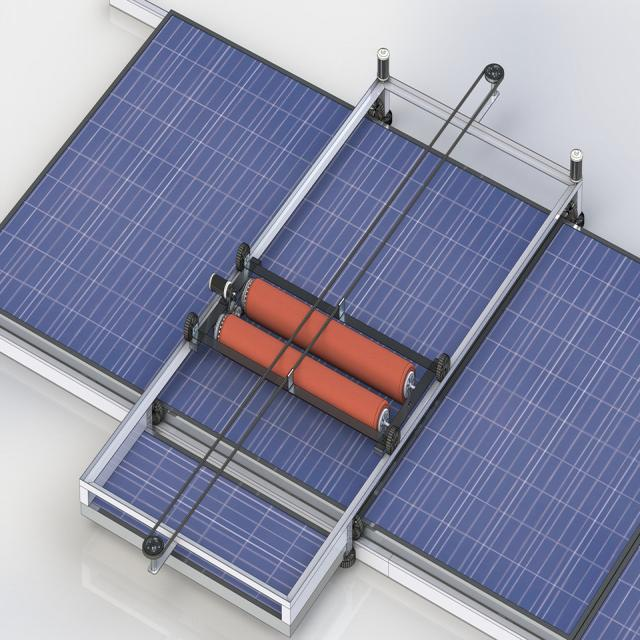dust-solar-panel: (0, 13, 640, 638)
